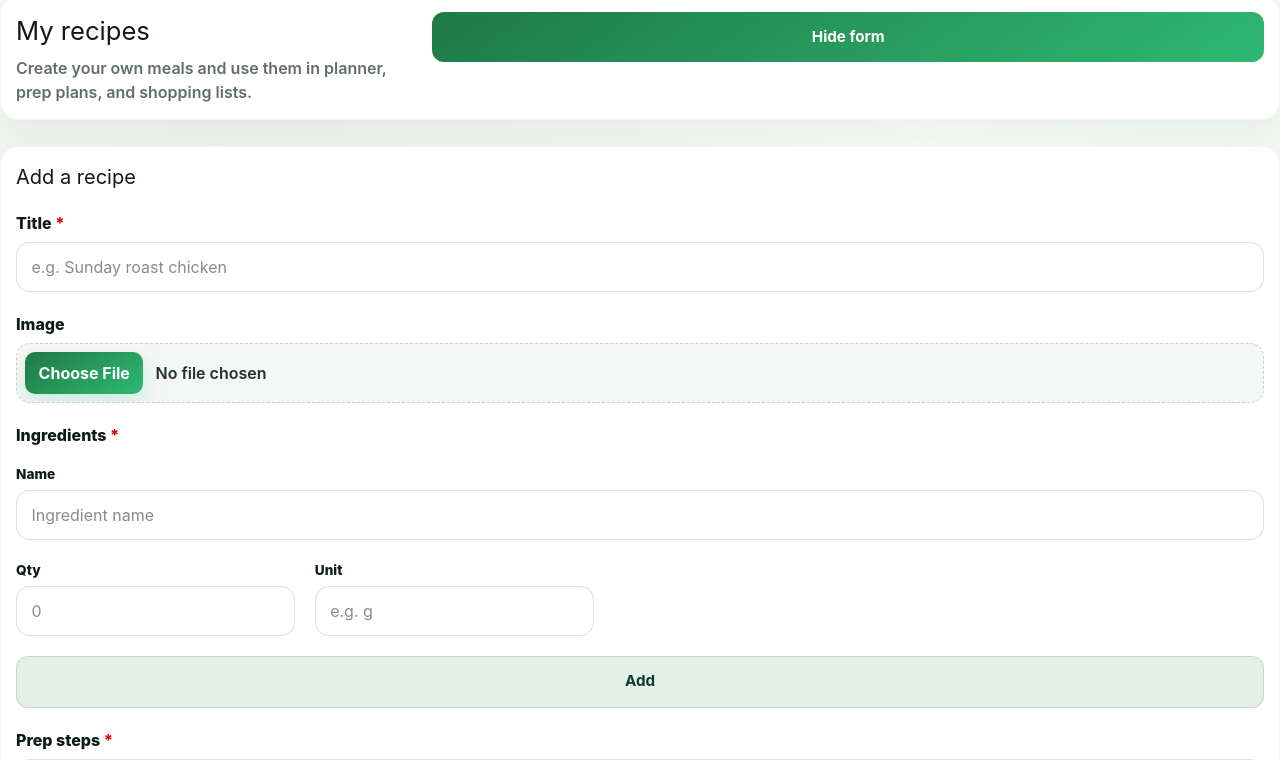
Test: Custom Recipes Page › resets the form fields
Type "Reset Me" into the field with placeholder "e.g. Sunday roast chicken".
click(640, 267); type("Reset Me")  # box x1=16 y1=242 x2=1264 y2=292
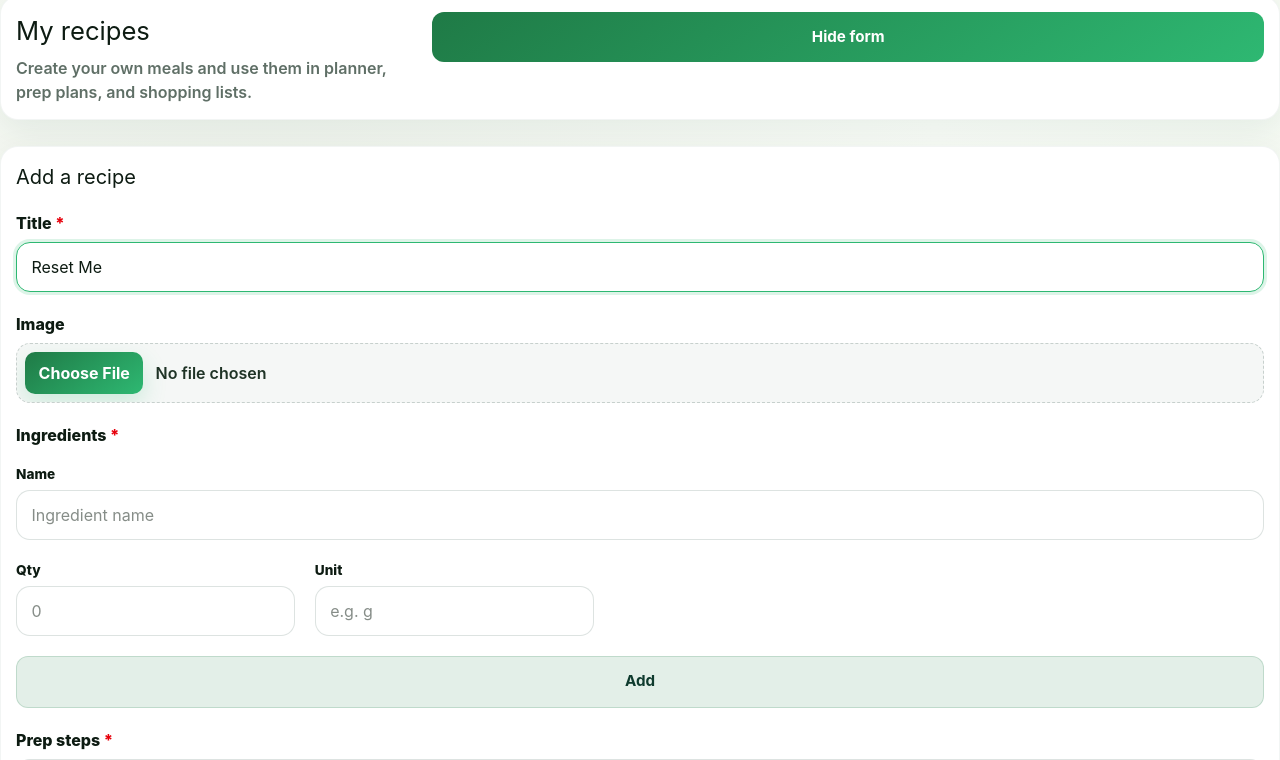
Type "Onion" into the field with placeholder "Ingredient name".
click(640, 515); type("Onion")  # box x1=16 y1=490 x2=1264 y2=540
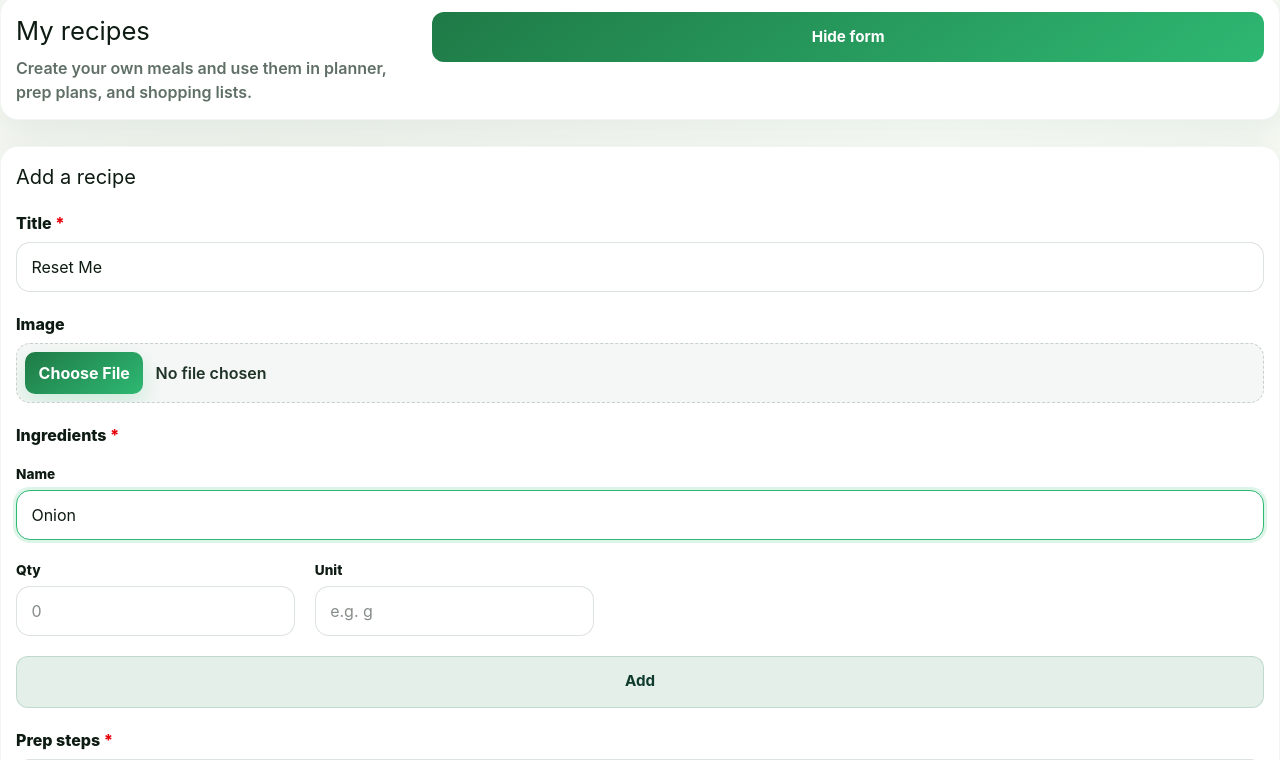
Click the button "Add".
click(640, 682)  # box x1=16 y1=656 x2=1264 y2=708
(page scrolled)
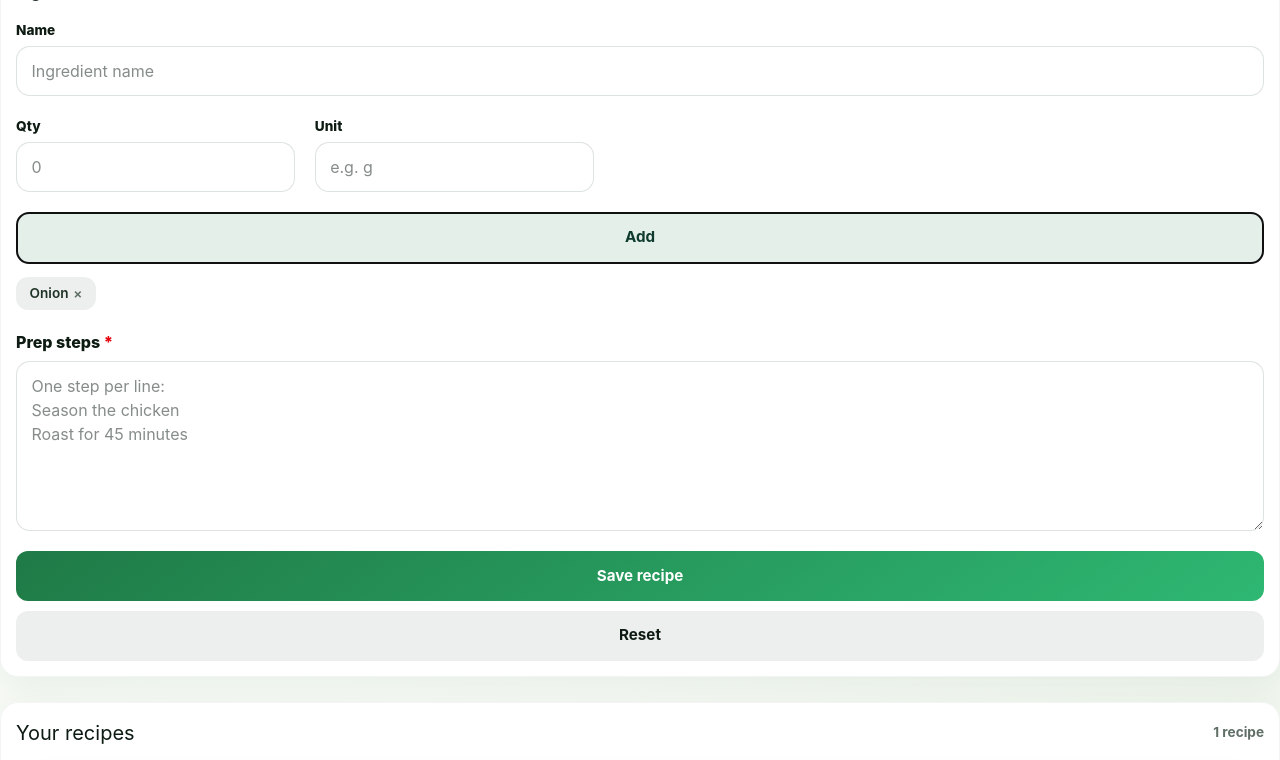
Type "Slice onion" into the text box with placeholder "One step per line: Season the chicken Roast for 45 minutes".
click(640, 446); type("Slice onion")  # box x1=16 y1=361 x2=1264 y2=531
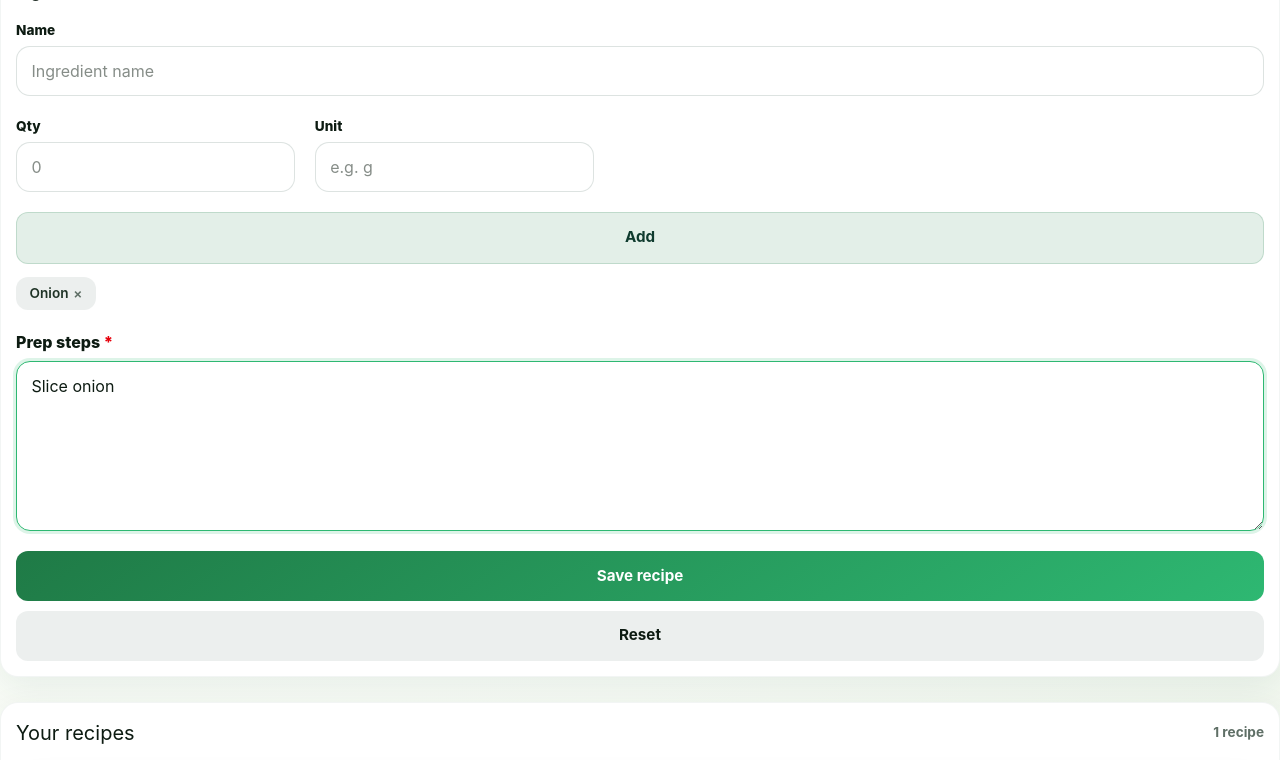
Click the button "Reset".
click(640, 636)  # box x1=16 y1=611 x2=1264 y2=661
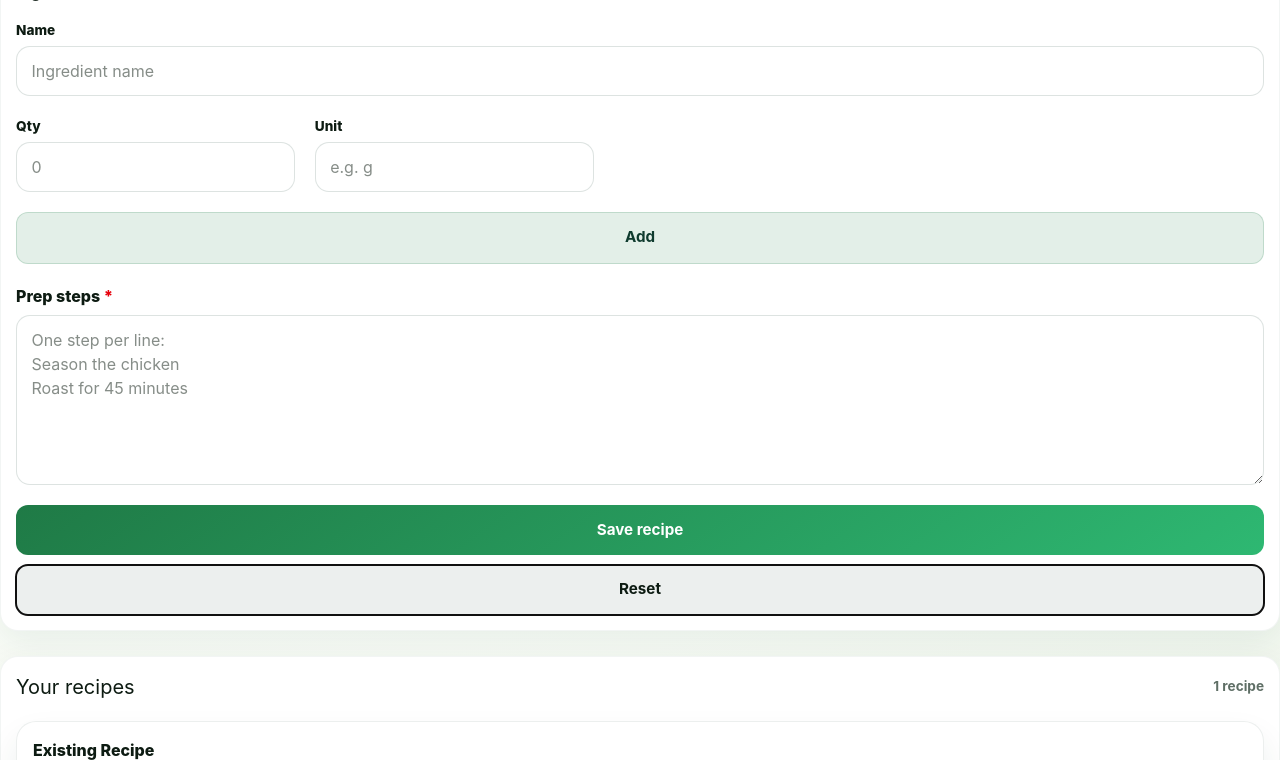
Check: the text box with placeholder "One step per line: Season the chicken Roast for 45 minutes" is empty, box x1=16 y1=315 x2=1264 y2=485
Check: the text "Onion" is gone
